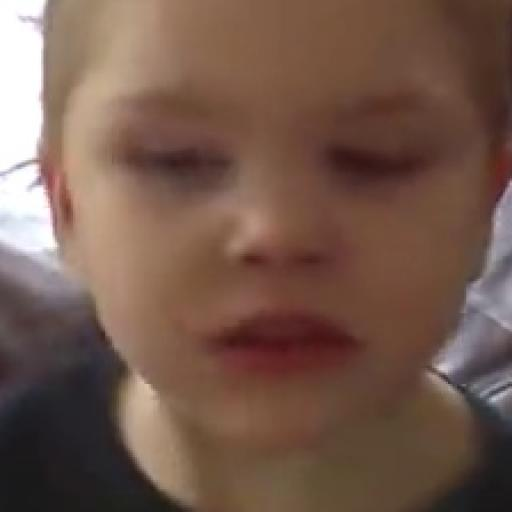Autism: (27, 0, 512, 457)
